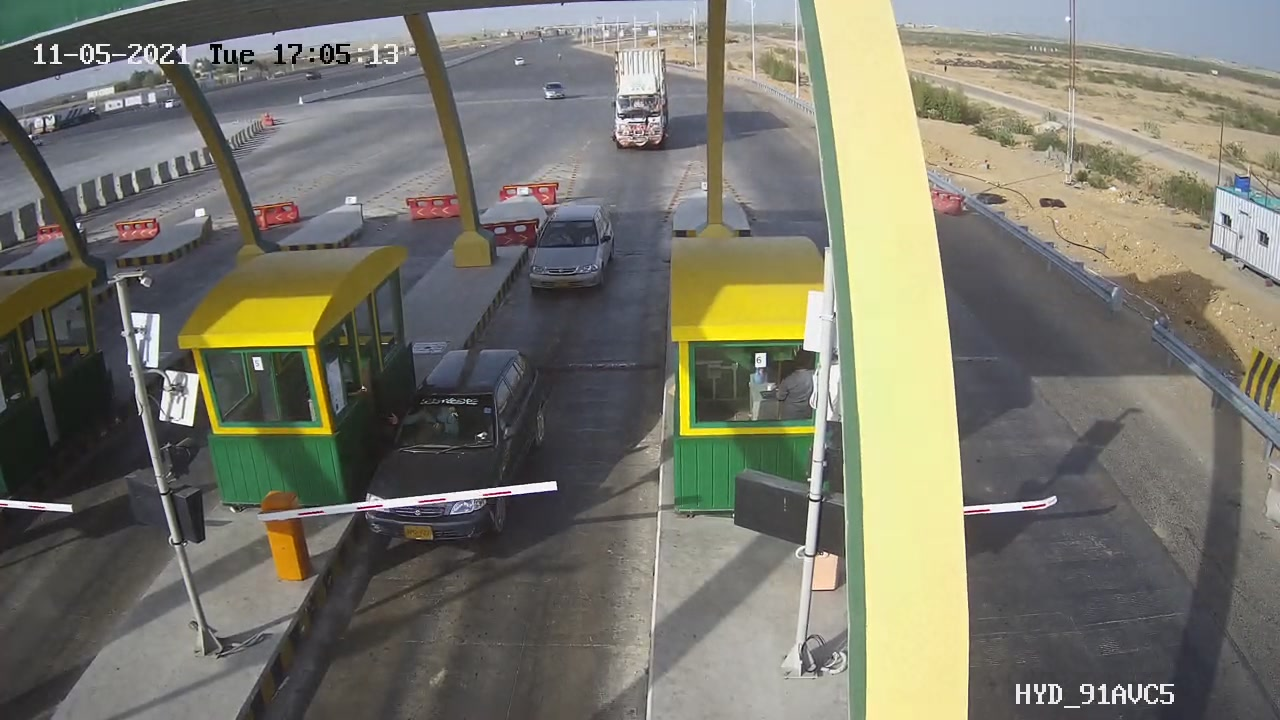F1: (352, 336, 574, 566), (509, 185, 642, 320)
